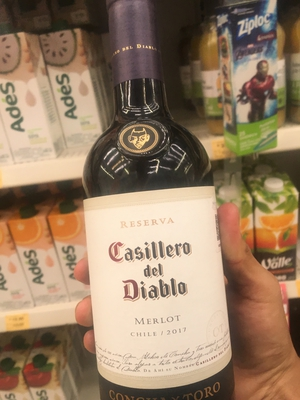casillero del diablo merlot: (84, 11, 236, 399)
